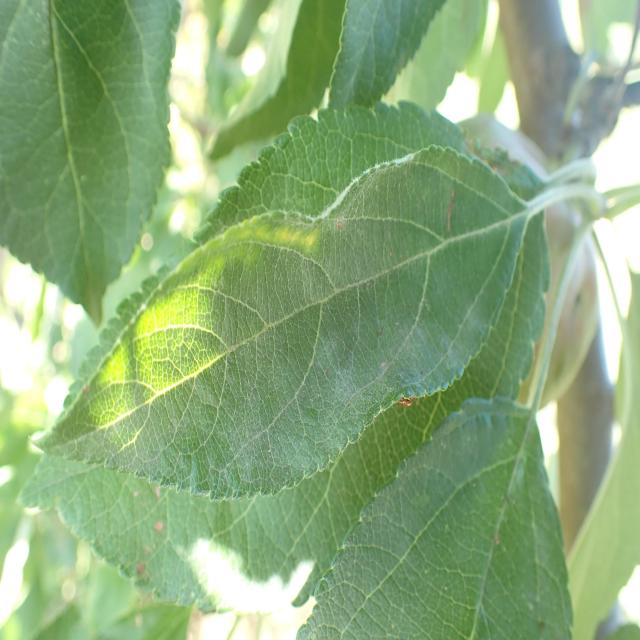Powdery_mildew: (106, 148, 488, 497), (344, 396, 594, 640)
